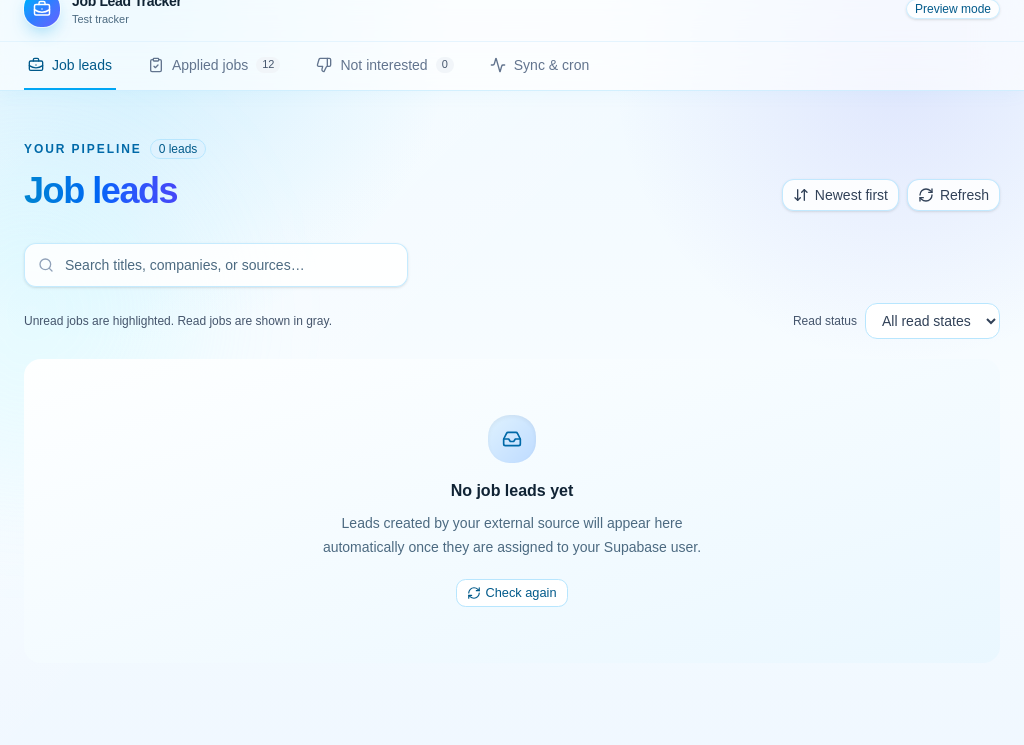
Test: DashboardView job tracking › paginates applied jobs and resets pagination when changing filters
Click the link "Applied jobs 12": (214, 65) [148,57,280,73]
(page scrolled)
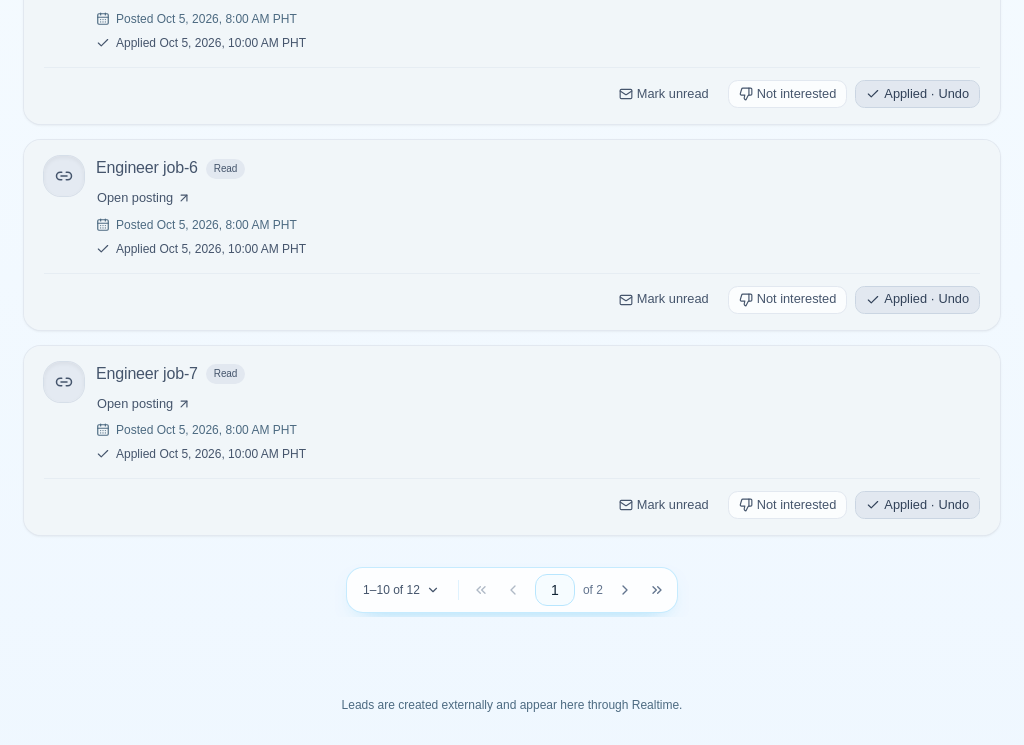
Click the button named "Next page": (625, 590) [611,576,639,604]
(page scrolled)
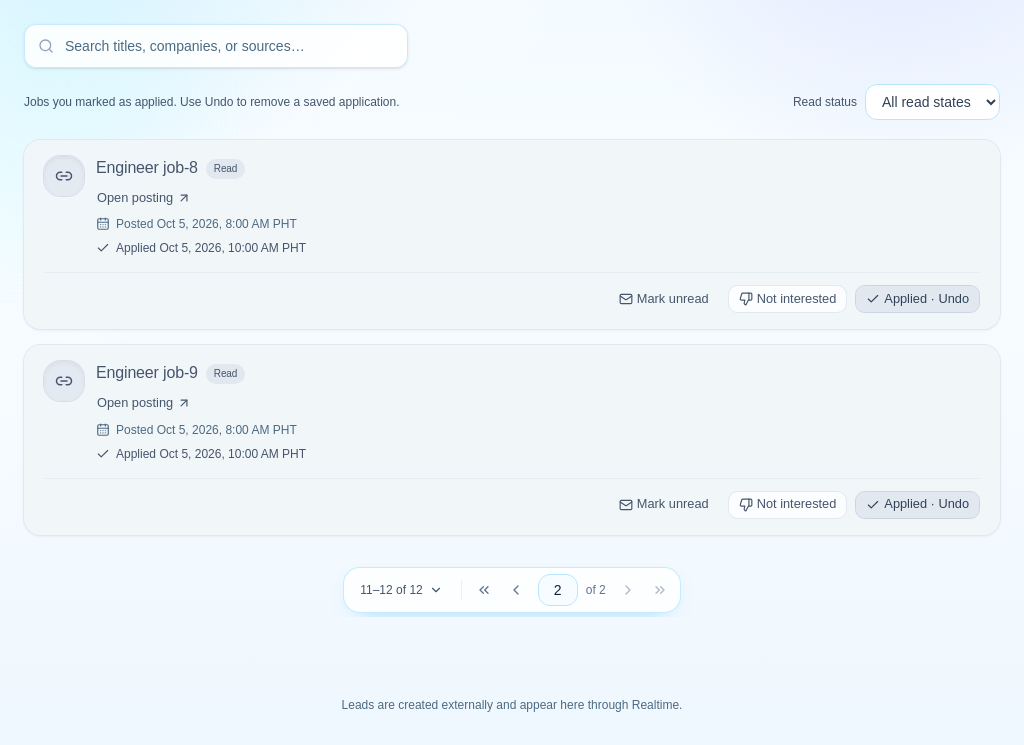
Select "Unread" in the dropdown named "Filter by read status": (932, 102) [865,84,1000,120]
(page scrolled)
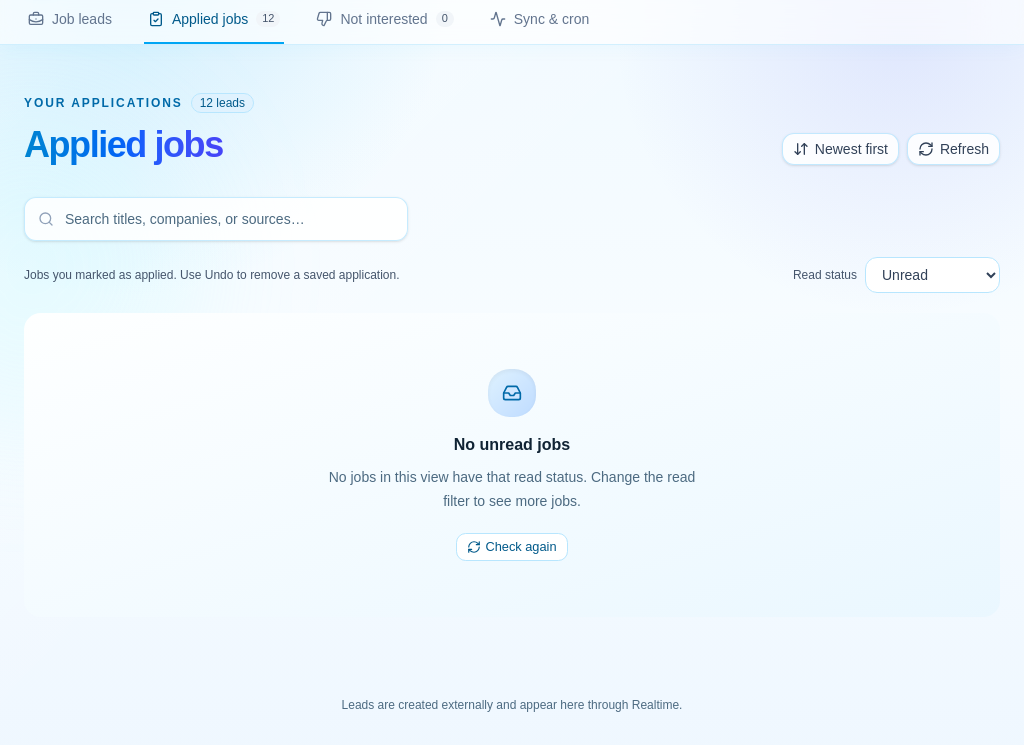
Result: the heading "No unread jobs" is shown at [454,433,570,457]
Select "All read states" in the dropdown named "Filter by read status": (932, 275) [865,257,1000,293]
(page scrolled)
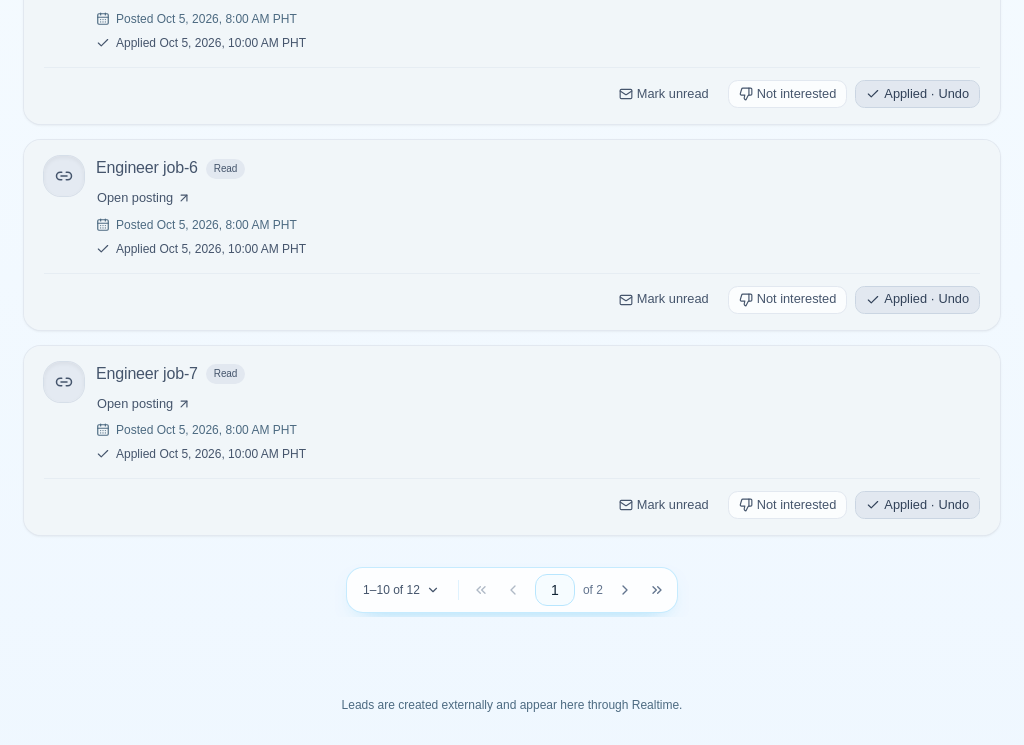
Result: the number field named "Current page" holds "1" at [535,574,575,606]
